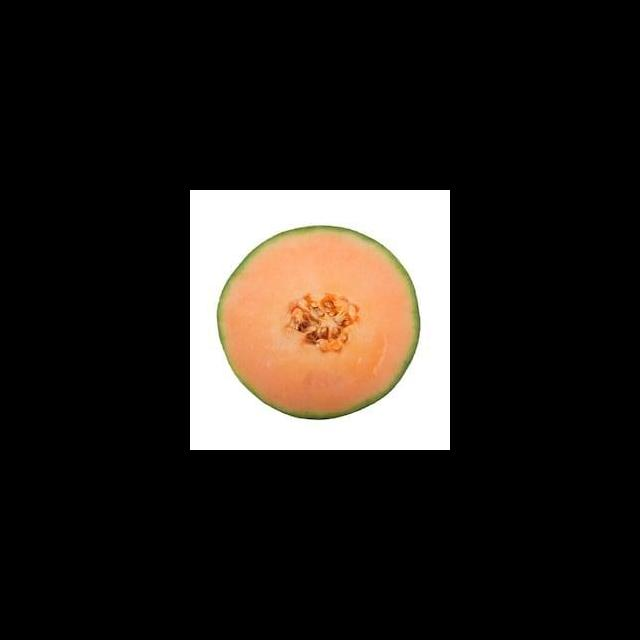Hami Melon: (217, 226, 420, 419)
